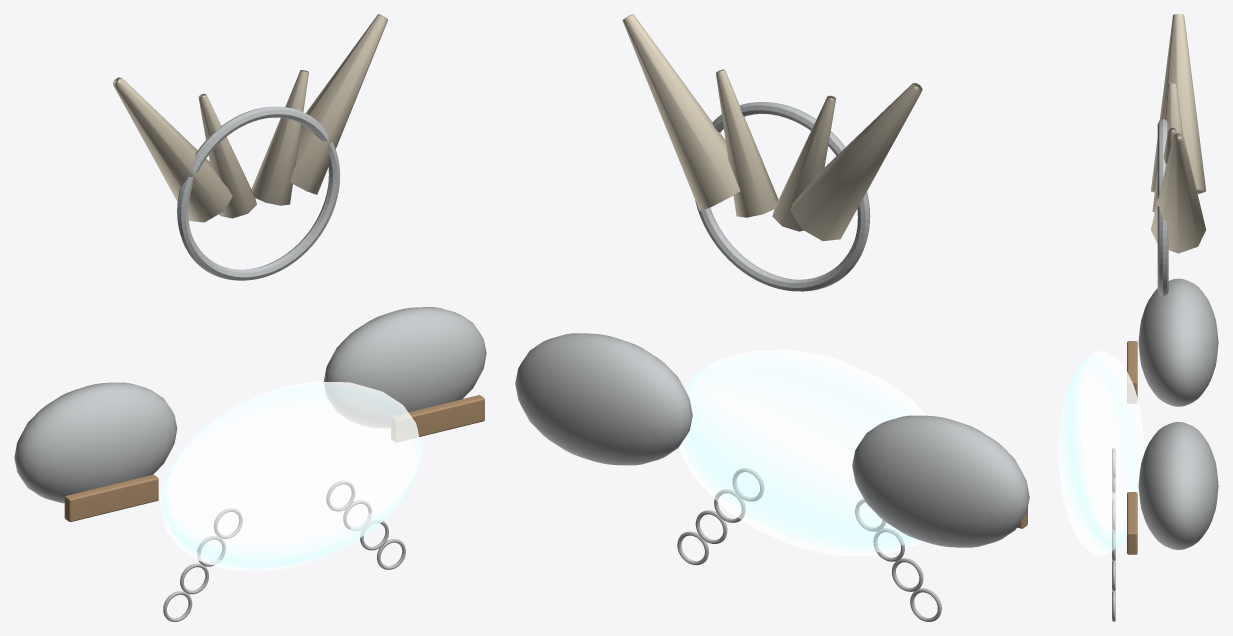
The model's file is boss-div-crown.glb.
The picture shows the model from 3 angles, left to right: view 1: azimuth 30°, elevation 25°; view 2: azimuth 150°, elevation 25°; view 3: azimuth 270°, elevation 25°; orthographic projection. The views are drawn at different scales.
Visible parts, largest first — view 1: boss_asset_div_breath_glow, boss_asset_div_iron_shoulder_R, boss_asset_div_iron_shoulder_L, boss_asset_div_brow_circlet, boss_asset_div_outer_horn_R, boss_asset_div_outer_horn_L, boss_asset_div_inner_horn_R, boss_asset_div_shoulder_blade_L, boss_asset_div_shoulder_blade_R, boss_asset_div_inner_horn_L; view 2: boss_asset_div_breath_glow, boss_asset_div_iron_shoulder_L, boss_asset_div_iron_shoulder_R, boss_asset_div_outer_horn_R, boss_asset_div_outer_horn_L, boss_asset_div_brow_circlet, boss_asset_div_inner_horn_R, boss_asset_div_inner_horn_L; view 3: boss_asset_div_breath_glow, boss_asset_div_iron_shoulder_R, boss_asset_div_iron_shoulder_L, boss_asset_div_outer_horn_R, boss_asset_div_outer_horn_L, boss_asset_div_brow_circlet, boss_asset_div_inner_horn_L, boss_asset_div_shoulder_blade_R, boss_asset_div_shoulder_blade_L, boss_asset_div_inner_horn_R.
Part boxes in pixels (x1,y1,x2,y2): boss_asset_div_breath_glow: (160, 382, 421, 570); boss_asset_div_iron_shoulder_R: (323, 307, 486, 427); boss_asset_div_iron_shoulder_L: (14, 382, 177, 503); boss_asset_div_brow_circlet: (177, 106, 340, 280); boss_asset_div_outer_horn_R: (290, 14, 387, 194); boss_asset_div_outer_horn_L: (113, 77, 232, 222); boss_asset_div_inner_horn_R: (251, 70, 308, 205); boss_asset_div_shoulder_blade_L: (64, 474, 158, 521); boss_asset_div_shoulder_blade_R: (391, 395, 484, 441); boss_asset_div_inner_horn_L: (198, 93, 256, 218); boss_asset_div_breath_glow: (678, 350, 926, 555); boss_asset_div_iron_shoulder_L: (852, 415, 1029, 547); boss_asset_div_iron_shoulder_R: (515, 333, 692, 465); boss_asset_div_outer_horn_R: (622, 14, 740, 210); boss_asset_div_outer_horn_L: (790, 83, 922, 240); boss_asset_div_brow_circlet: (695, 102, 870, 291); boss_asset_div_inner_horn_R: (716, 69, 778, 217); boss_asset_div_inner_horn_L: (772, 95, 835, 231); boss_asset_div_breath_glow: (1058, 351, 1144, 555); boss_asset_div_iron_shoulder_R: (1138, 422, 1218, 549); boss_asset_div_iron_shoulder_L: (1138, 278, 1218, 406); boss_asset_div_outer_horn_R: (1151, 133, 1206, 253); boss_asset_div_outer_horn_L: (1151, 14, 1206, 194); boss_asset_div_brow_circlet: (1157, 119, 1168, 296); boss_asset_div_inner_horn_L: (1152, 82, 1182, 211); boss_asset_div_shoulder_blade_R: (1127, 492, 1137, 554); boss_asset_div_shoulder_blade_L: (1127, 341, 1137, 402); boss_asset_div_inner_horn_R: (1154, 127, 1176, 214).
Size of the model in its own units: 1.66 by 1.78 by 0.52.
